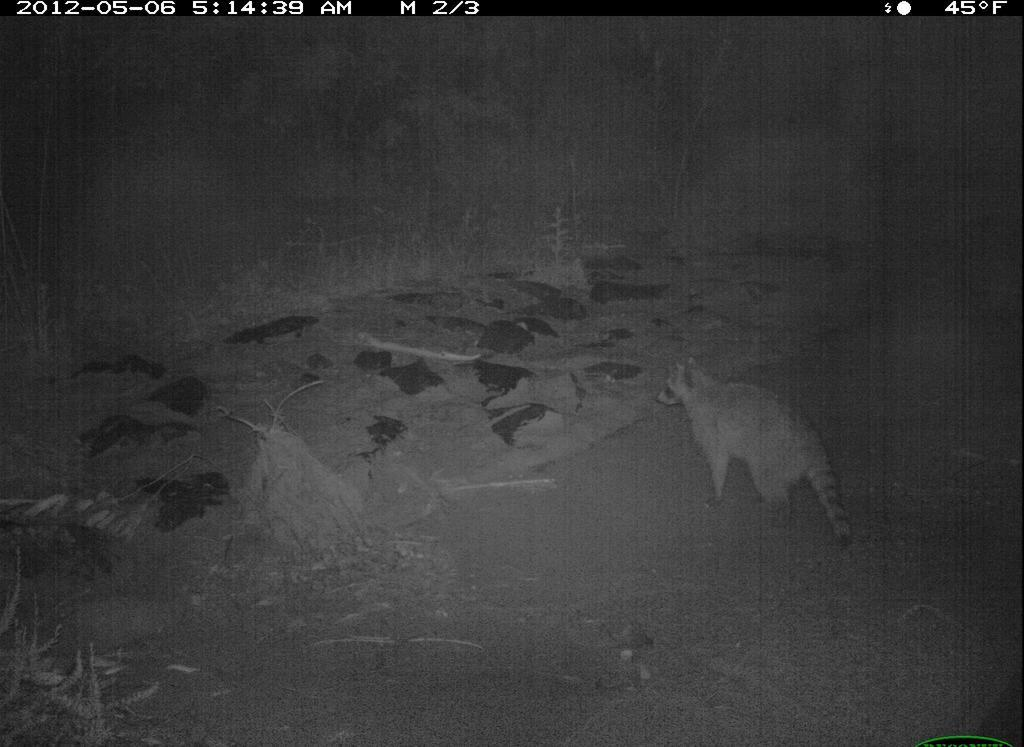raccoon: (648, 347, 866, 561)
